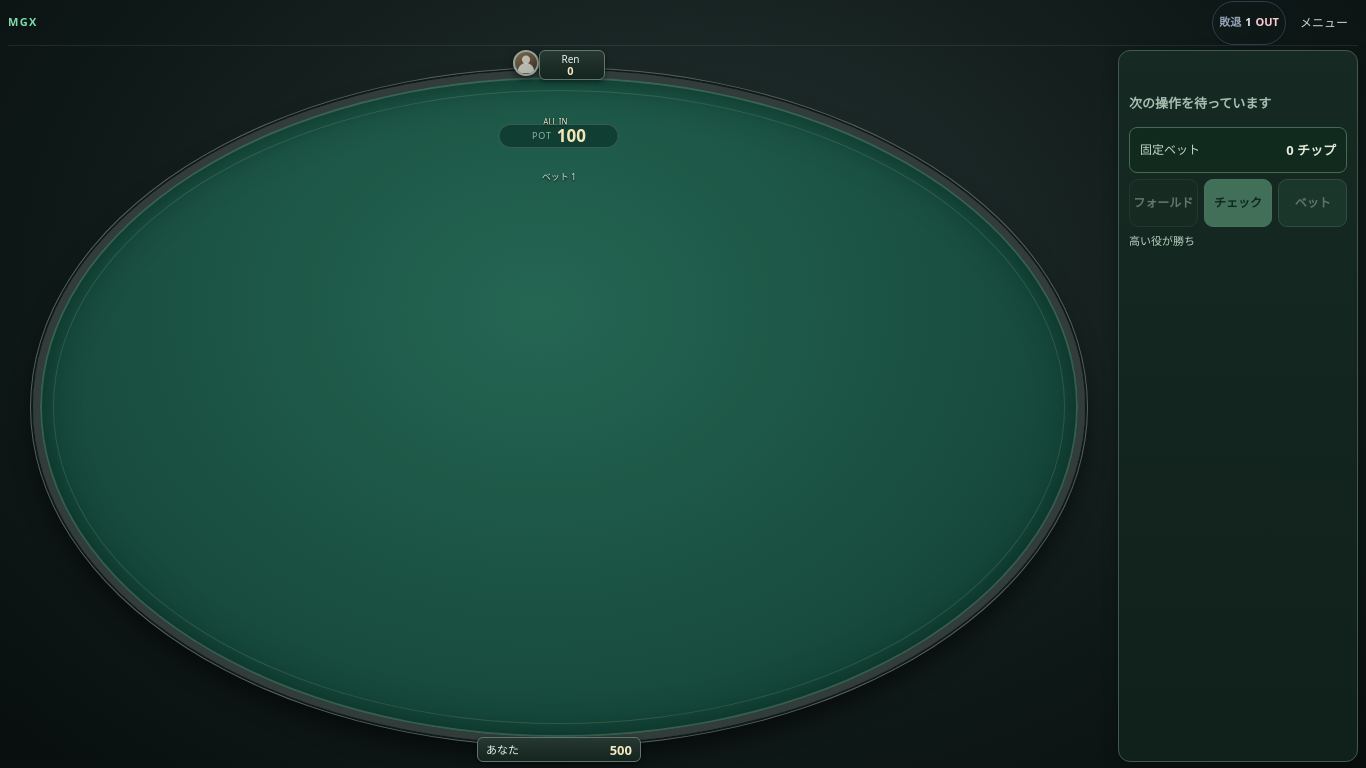
Scenario: shows eliminated opponents in the mobile rail while retaining an unresolved all-in seat
The width and height of the screenshot is (1366, 768).
Expected: the element with test id "seat-2" shows "ALL IN", [543,116,568,127]
Click the button "敗退 1 OUT": (1249, 22) [1212,0,1286,44]
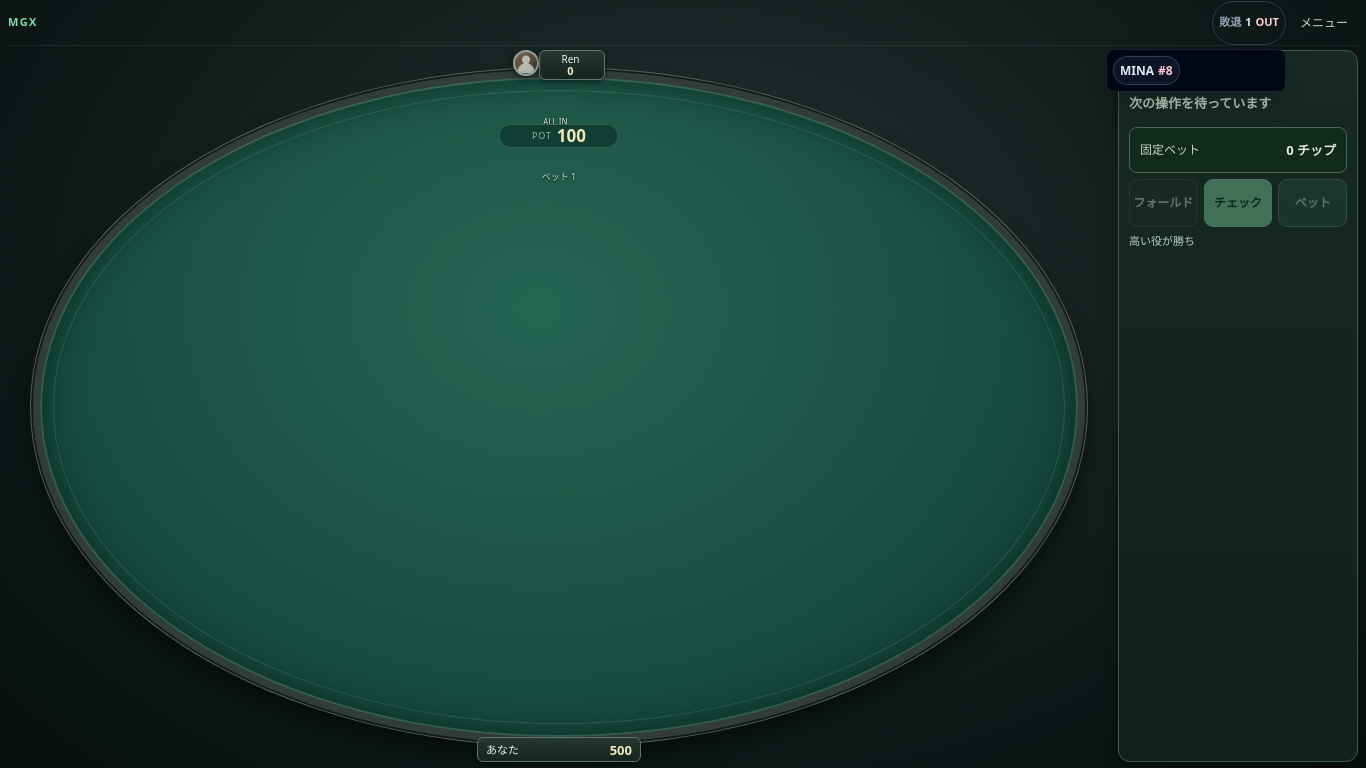
Now the element with test id "eliminated-rail-entry-cpu-1" shows "Mina", box [1120,62,1154,78]
Now the element with test id "eliminated-rail-entry-cpu-1" shows "#8", box [1158,62,1173,78]
